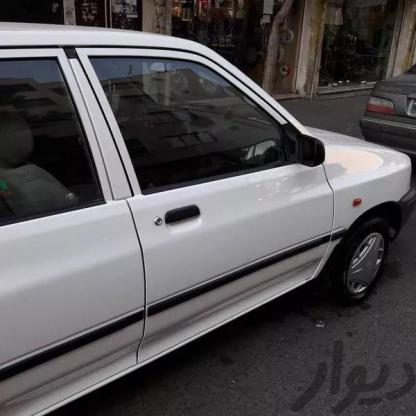Car: (0, 36, 416, 416), (351, 56, 416, 188)
